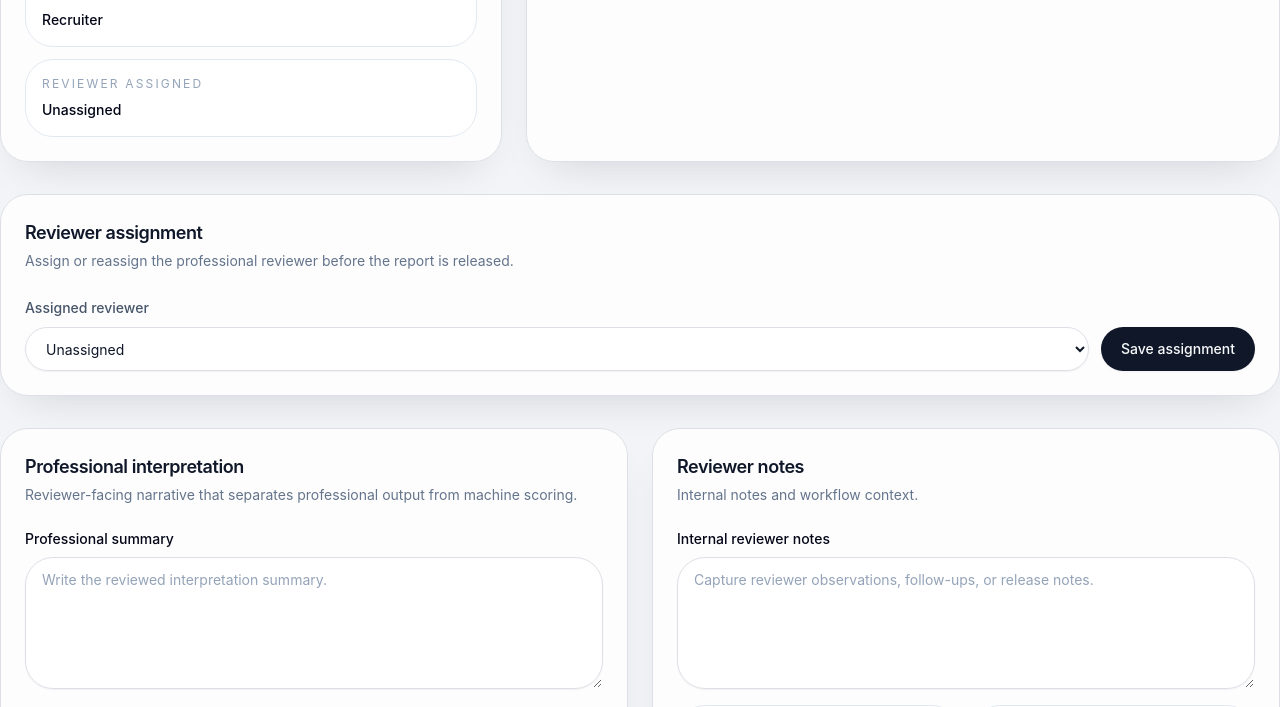
ResultDetailPage › lets super admins assign a reviewer and shows the visibility controls
The width and height of the screenshot is (1280, 707).
(page scrolled)
Select "Dr. Reviewer - reviewer@example.com" in the dropdown labelled "Assigned reviewer" at {"x": 557, "y": 349}, box [25,327,1089,371]
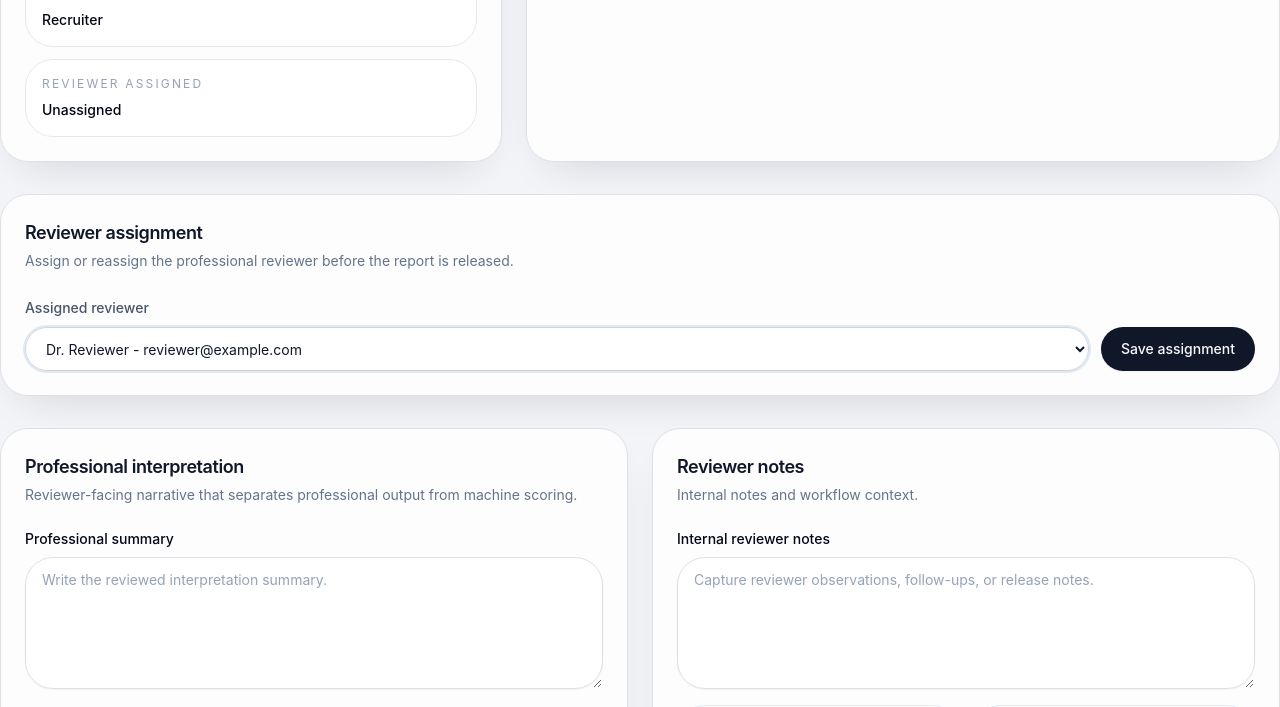
Click the button "Save assignment" at {"x": 1178, "y": 349}, box [1101,327,1255,371]
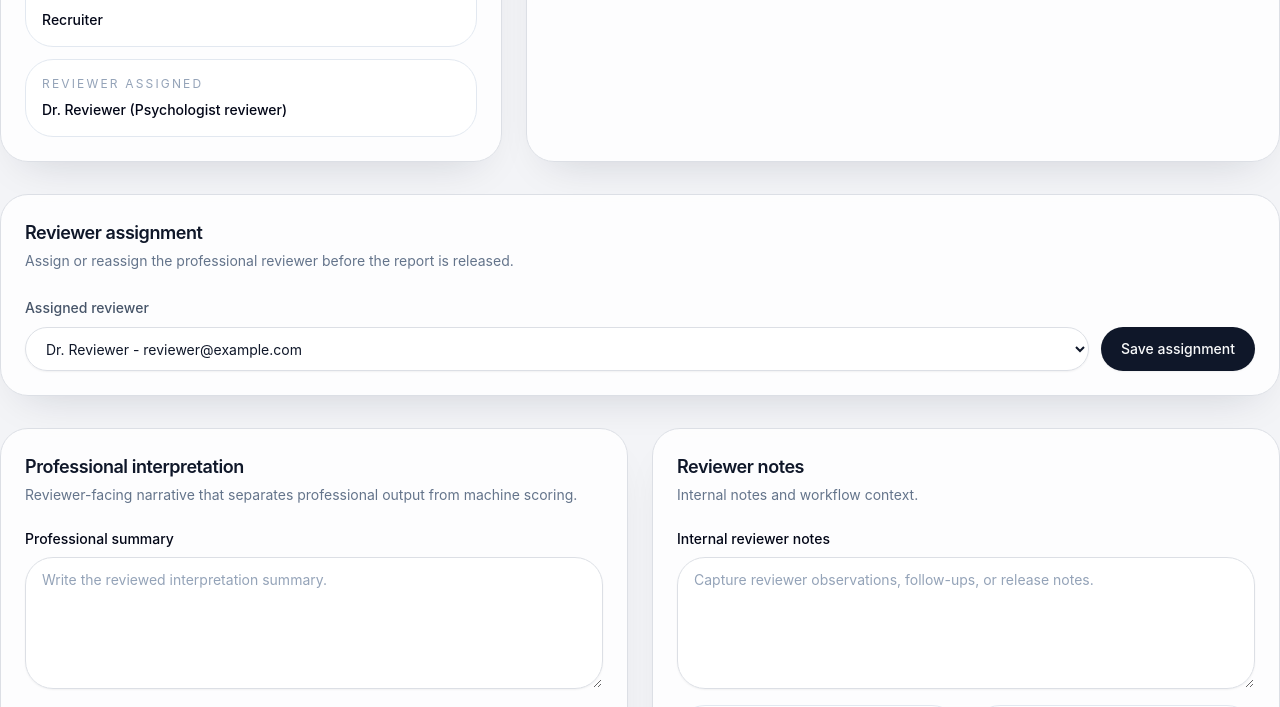
Check: the text "Dr. Reviewer (Psychologist reviewer)" is shown, box [42,101,287,118]
